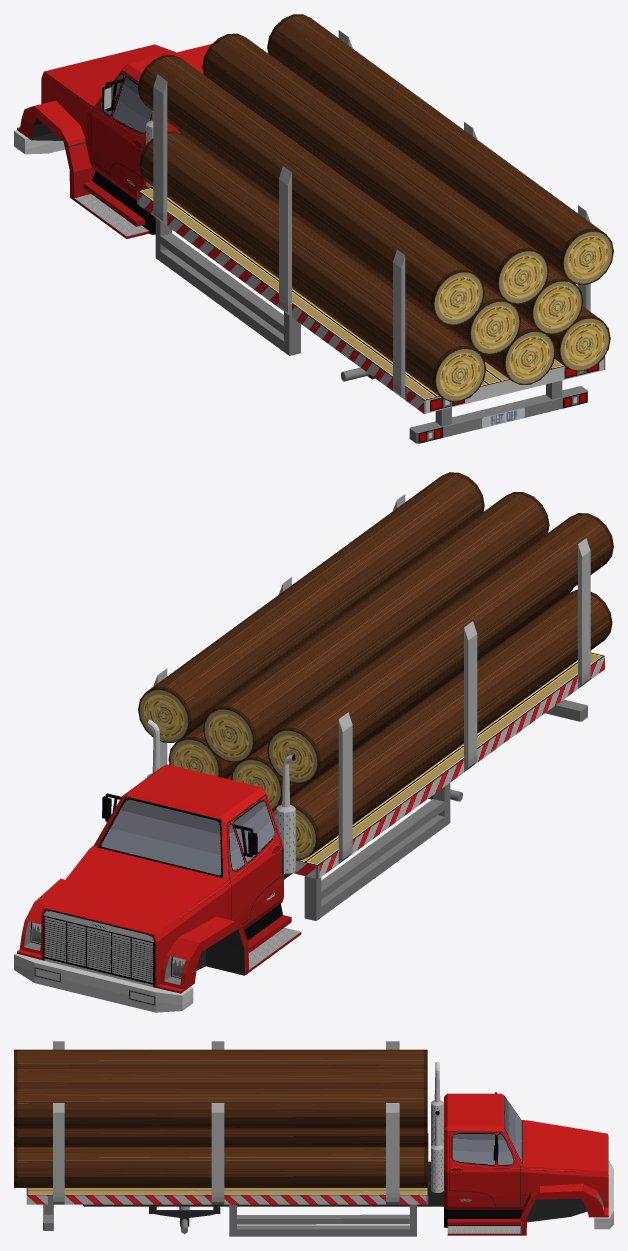
The model's file is 93fl70logcarrier.fbx.
3 views of the same model, one above another, from view 1: azimuth 30°, elevation 25°; view 2: azimuth 150°, elevation 25°; view 3: azimuth 270°, elevation 25° (orthographic). The views are drawn at different scales.
Parts seen in each view (by area): view 1: FL70logging; view 2: FL70logging; view 3: FL70logging.
Boxes of the visible parts, x1,y1,x2,y2 form: FL70logging: [14, 14, 613, 443]; FL70logging: [14, 472, 613, 1012]; FL70logging: [14, 1041, 613, 1236].
Bounding box in the file's own units: 2.58 × 2.75 × 10.1.
